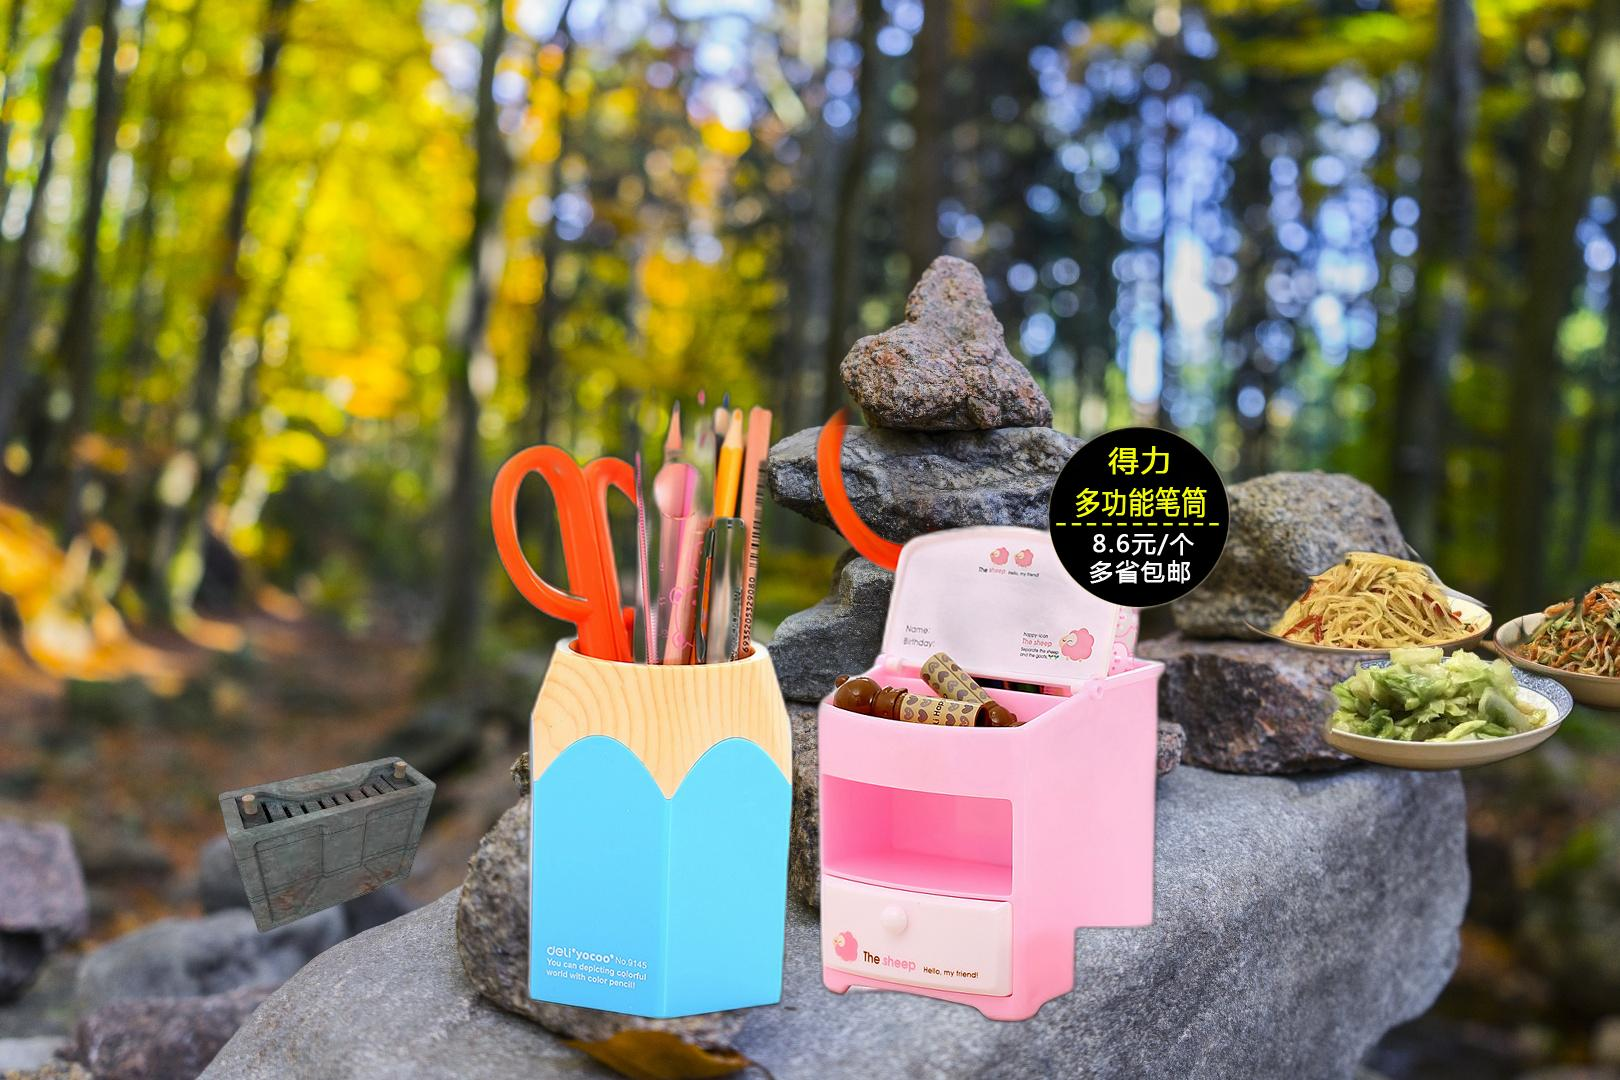battery: (215, 753, 440, 937)
biological: (1222, 535, 1620, 783)
penholder: (485, 377, 1238, 1028)
